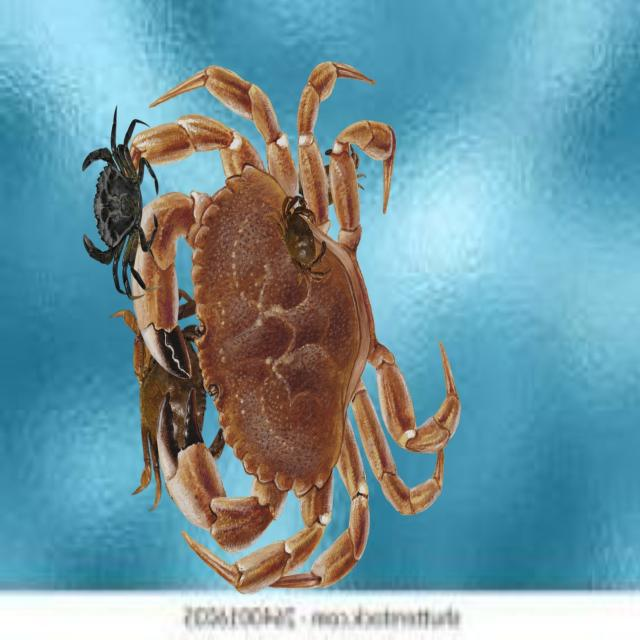European_Green_Crab: (83, 104, 158, 300)
